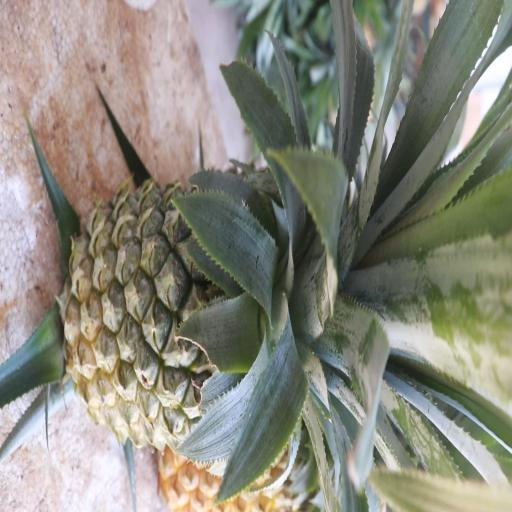------------------------------: (71, 176, 312, 440)
